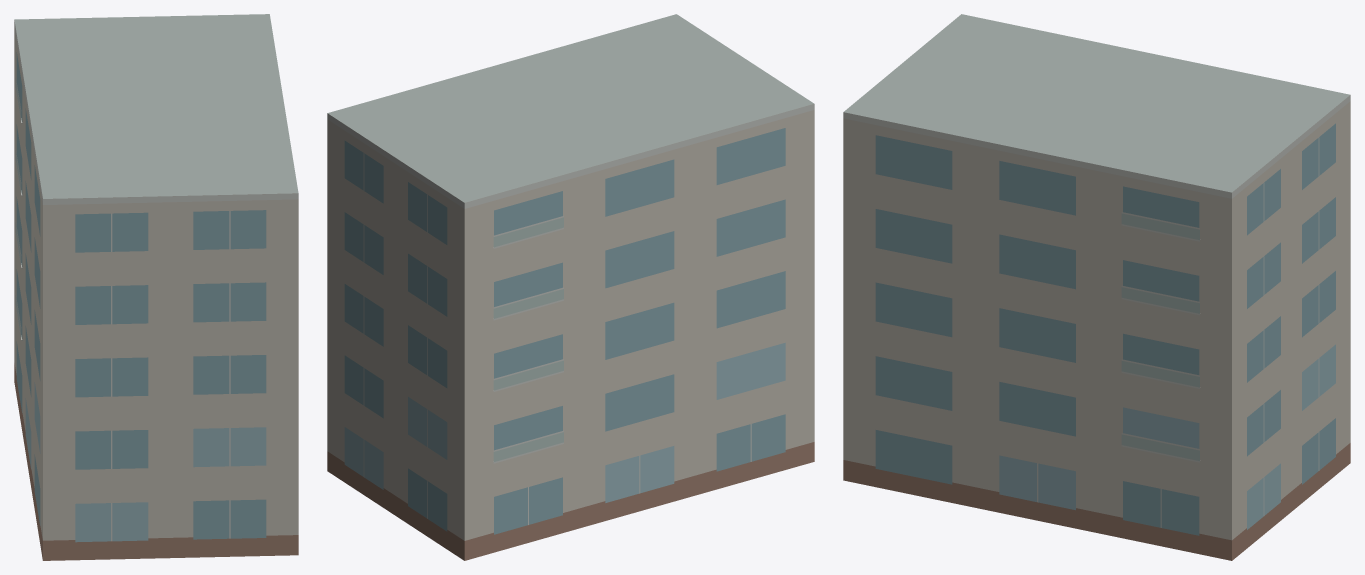
The model's file is survey-upis-32934739.glb.
3 renders of one model, left to right at view 1: azimuth 30°, elevation 25°; view 2: azimuth 150°, elevation 25°; view 3: azimuth 270°, elevation 25°, orthographic. The views are drawn at different scales.
Parts seen in each view (by area): view 1: survey-upis-32934739.tmp; view 2: survey-upis-32934739.tmp; view 3: survey-upis-32934739.tmp.
Part boxes in pixels (x1,y1,x2,y2): survey-upis-32934739.tmp: (14,14,298,560); survey-upis-32934739.tmp: (327,14,814,560); survey-upis-32934739.tmp: (843,14,1350,560).
Size of the model in its own units: 14.99 by 14.4 by 17.99.
